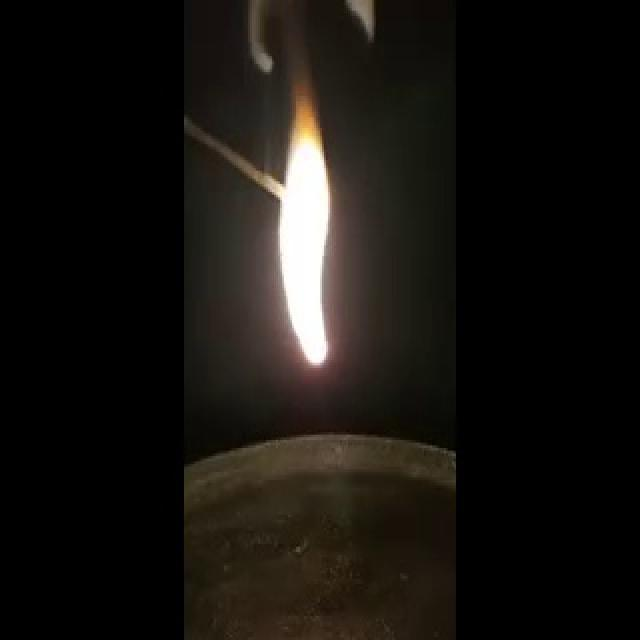fire: (266, 62, 344, 390)
